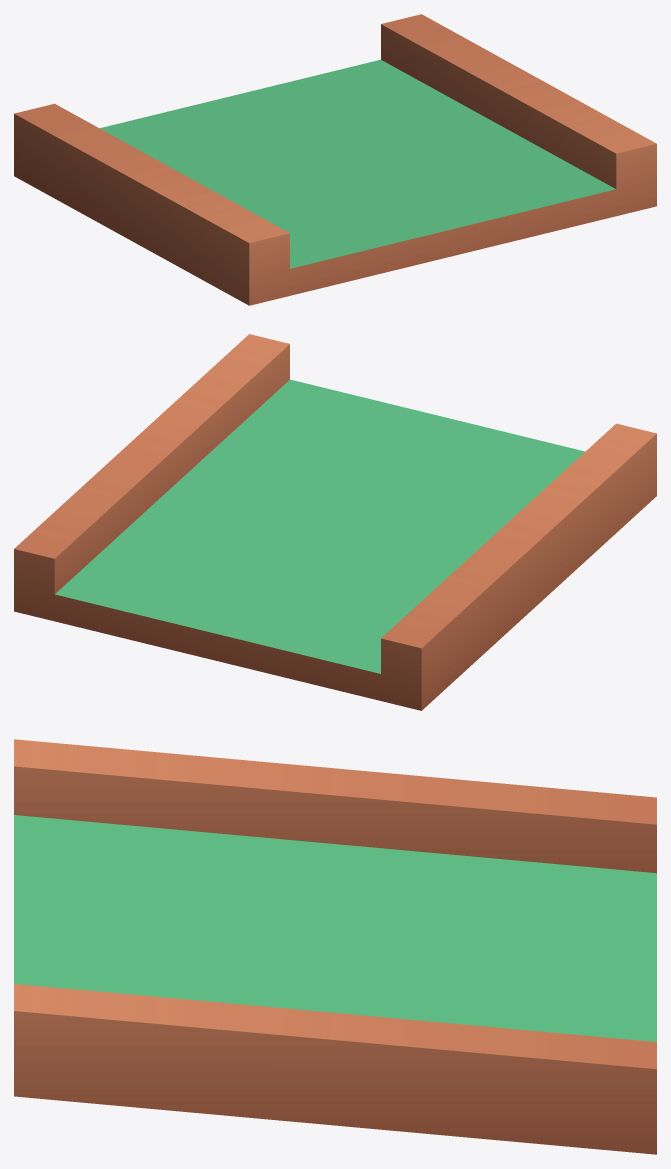
File: ramp-low.glb
3 renders of one model, top to bottom at view 1: azimuth 30°, elevation 25°; view 2: azimuth 150°, elevation 25°; view 3: azimuth 270°, elevation 25°, orthographic. The views are drawn at different scales.
Visible parts, largest first — view 1: ramp-low; view 2: ramp-low; view 3: ramp-low.
Part boxes in pixels (x1,y1,x2,y2): ramp-low: [14, 14, 656, 305]; ramp-low: [14, 334, 656, 710]; ramp-low: [14, 739, 656, 1154].
Size of the model in its own units: 0.9999 by 0.2466 by 0.9999.
1 material, 1 textured.
